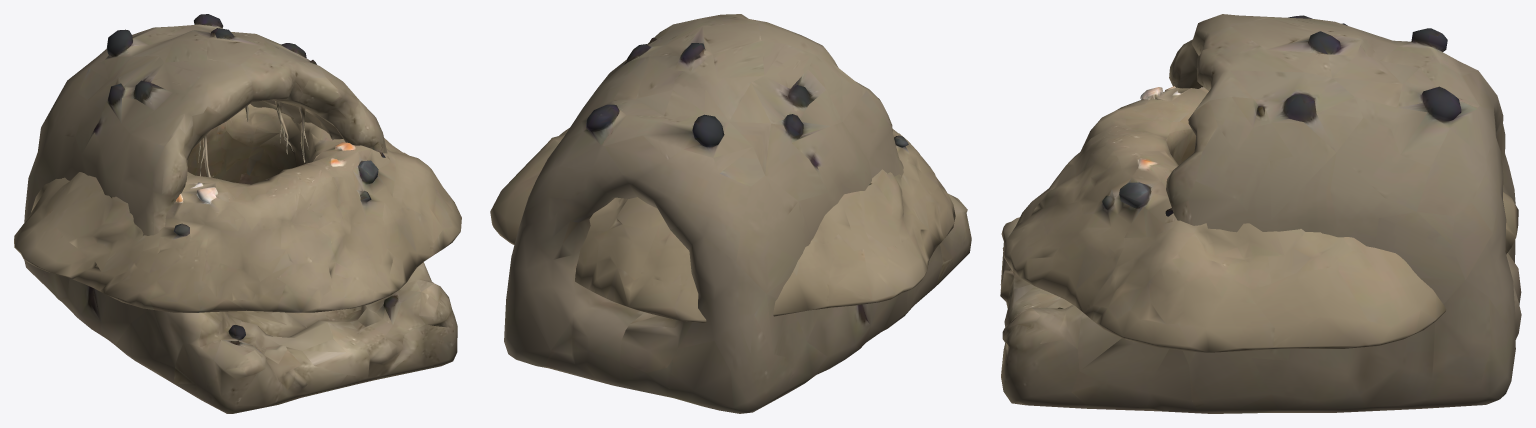
File: burrowProps.glb
3 renders of one model, left to right at view 1: azimuth 30°, elevation 25°; view 2: azimuth 150°, elevation 25°; view 3: azimuth 270°, elevation 25°, orthographic. The views are drawn at different scales.
Visible parts, largest first — view 1: burrow_exit, burrow_entrance; view 2: burrow_exit, burrow_entrance; view 3: burrow_exit, burrow_entrance.
Part boxes in pixels (x1,y1,x2,y2): burrow_exit: (24,14,457,413); burrow_entrance: (14,104,461,312); burrow_exit: (504,14,971,413); burrow_entrance: (490,128,955,322); burrow_exit: (1000,14,1521,413); burrow_entrance: (1002,86,1518,352).
Bounding box in the file's own units: 1.9 × 1.27 × 1.91.
Materials: 2 (2 with a texture image).
